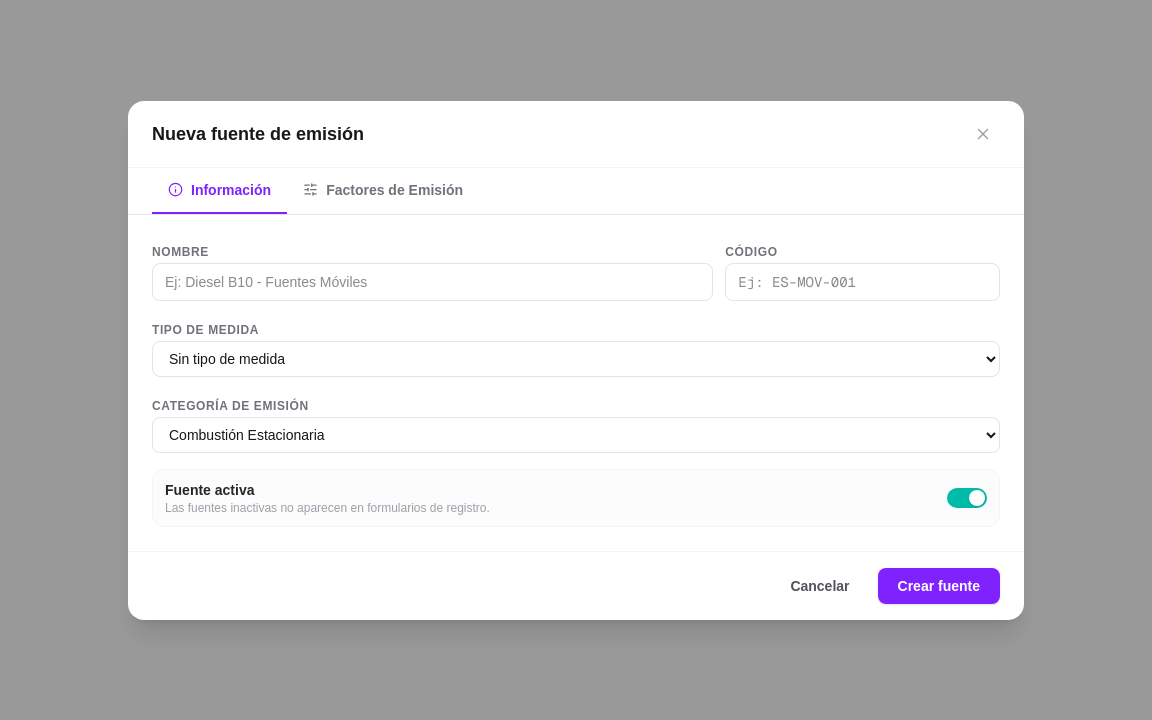
EmissionSourceFormModal › E-24 — Cambiar gas actualiza GWP automáticamente › muestra el GWP del gas seleccionado
Click the button "Factores de Emisión": {"x": 383, "y": 190} [287,168,479,214]
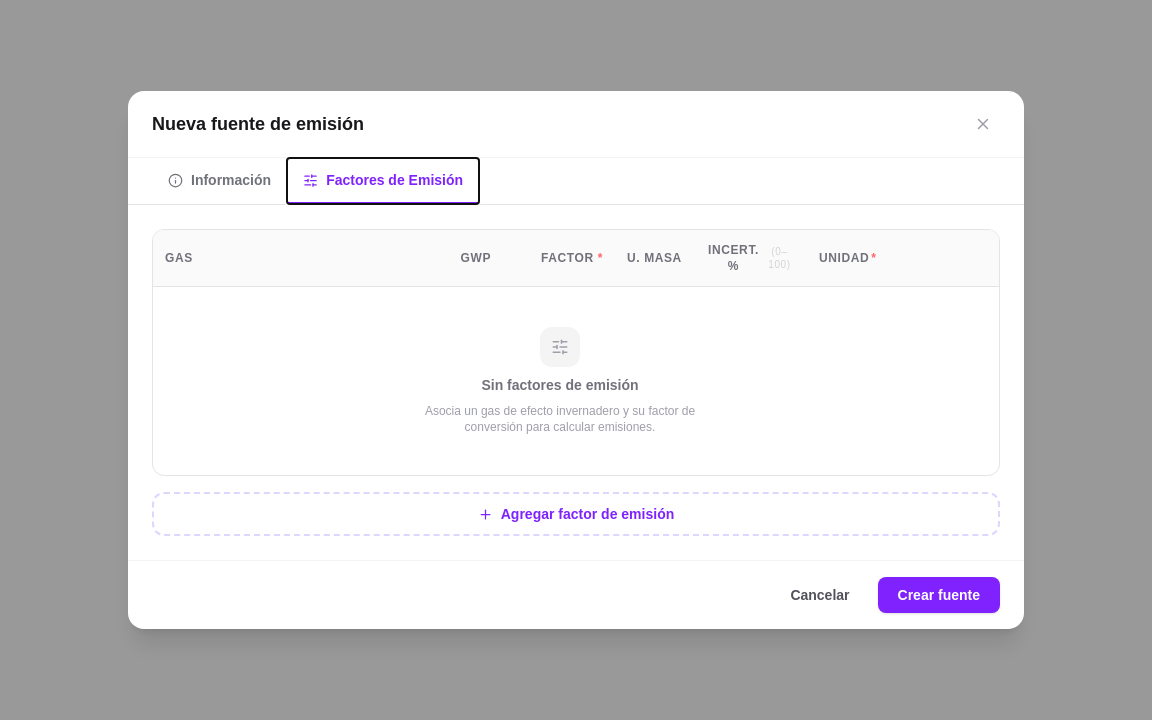
Click the button "Agregar factor de emisión": {"x": 576, "y": 514} [152,492,1000,536]
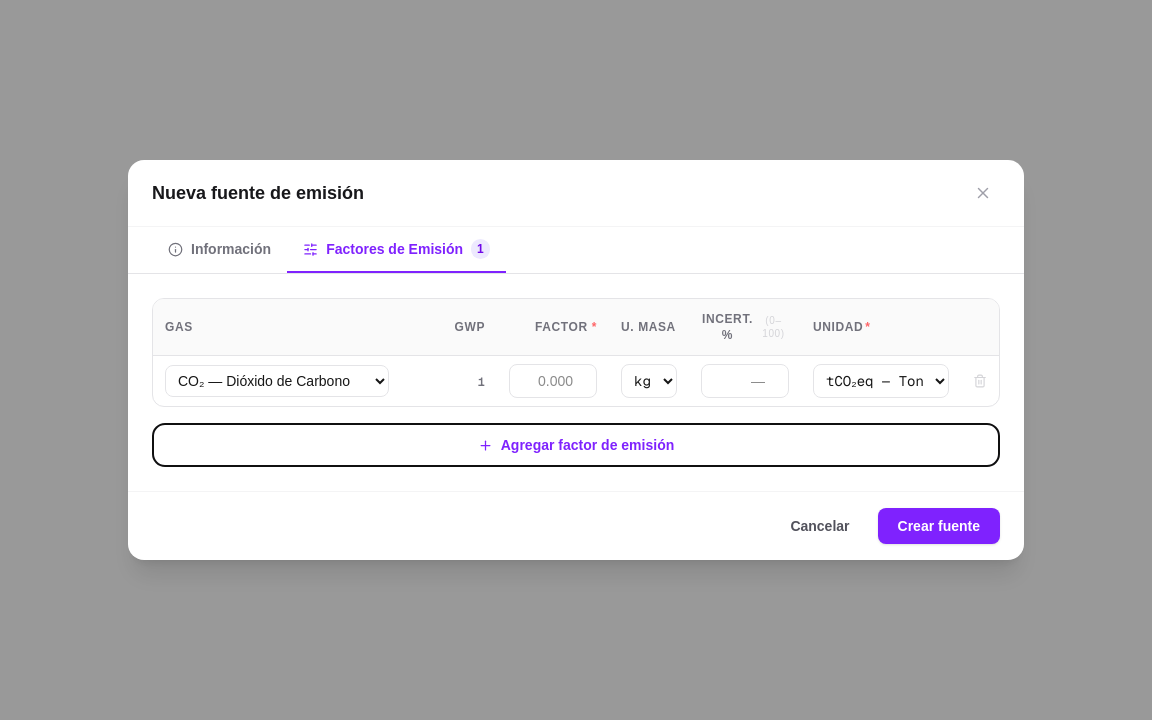
Select "CH₄ — Metano" in the 1st dropdown: {"x": 277, "y": 381} [165,365,389,397]
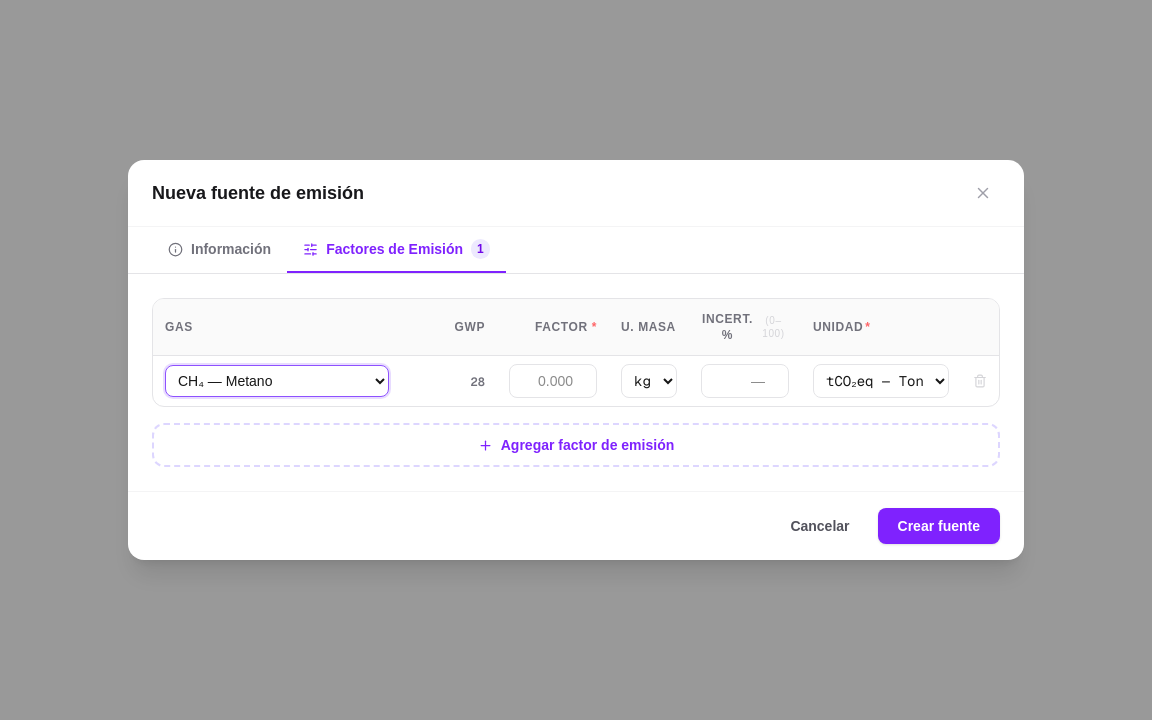
expect the text "28" is shown: met, box [471,374,485,390]
